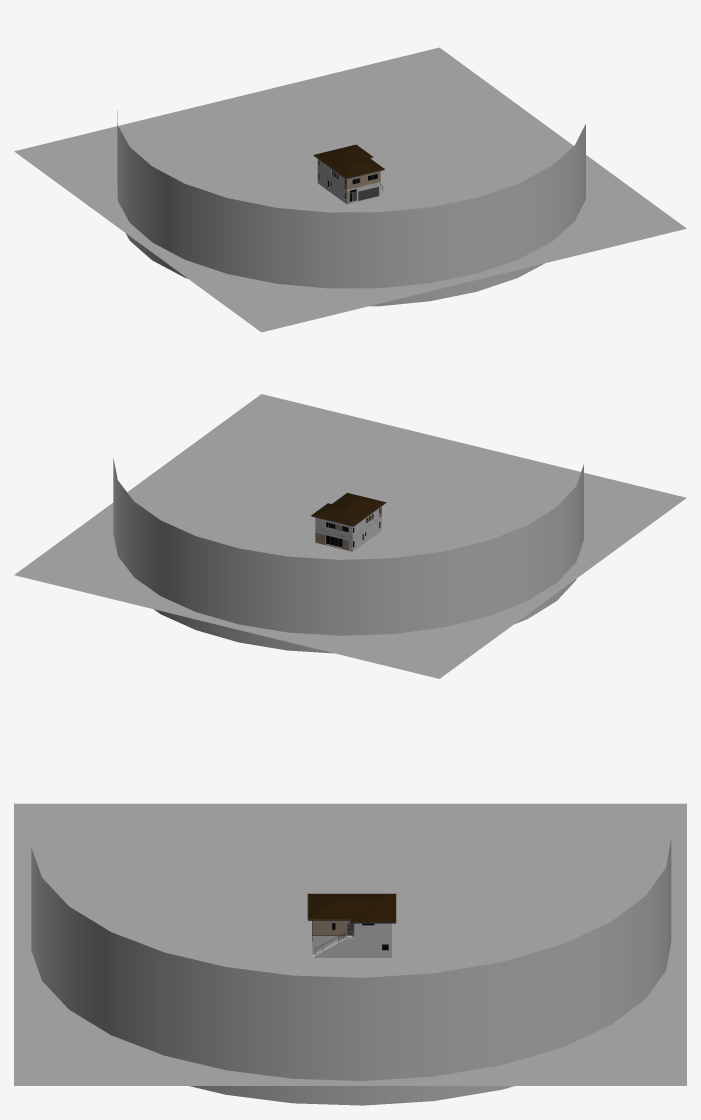
File: single_house.glb
3 renders of one model, top to bottom at view 1: azimuth 30°, elevation 25°; view 2: azimuth 150°, elevation 25°; view 3: azimuth 270°, elevation 25°, orthographic. The views are drawn at different scales.
Visible parts, largest first — view 1: base, environment, wall dirt B00, roof B01; view 2: base, environment, wall dirt B00, wall dirt A03, roof B01; view 3: base, environment, wall dirt B00, roof B05.
Boxes of the visible parts, <box> form: base: <box>14,47,686,332</box>; environment: <box>117,111,585,306</box>; wall dirt B00: <box>317,169,380,203</box>; roof B01: <box>314,153,353,178</box>; base: <box>14,394,686,678</box>; environment: <box>113,458,583,653</box>; wall dirt B00: <box>315,516,381,551</box>; wall dirt A03: <box>315,508,379,537</box>; roof B01: <box>346,501,384,525</box>; base: <box>14,803,686,1085</box>; environment: <box>31,839,671,1105</box>; wall dirt B00: <box>312,936,391,957</box>; roof B05: <box>309,900,371,919</box>.
Bounding box in the file's own units: 10231 × 2159 × 10307.
